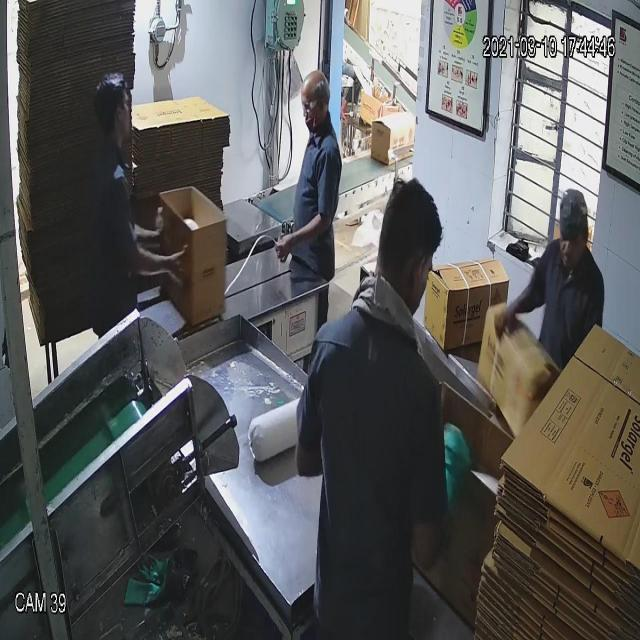No_Gloves: (54, 62, 508, 312)
